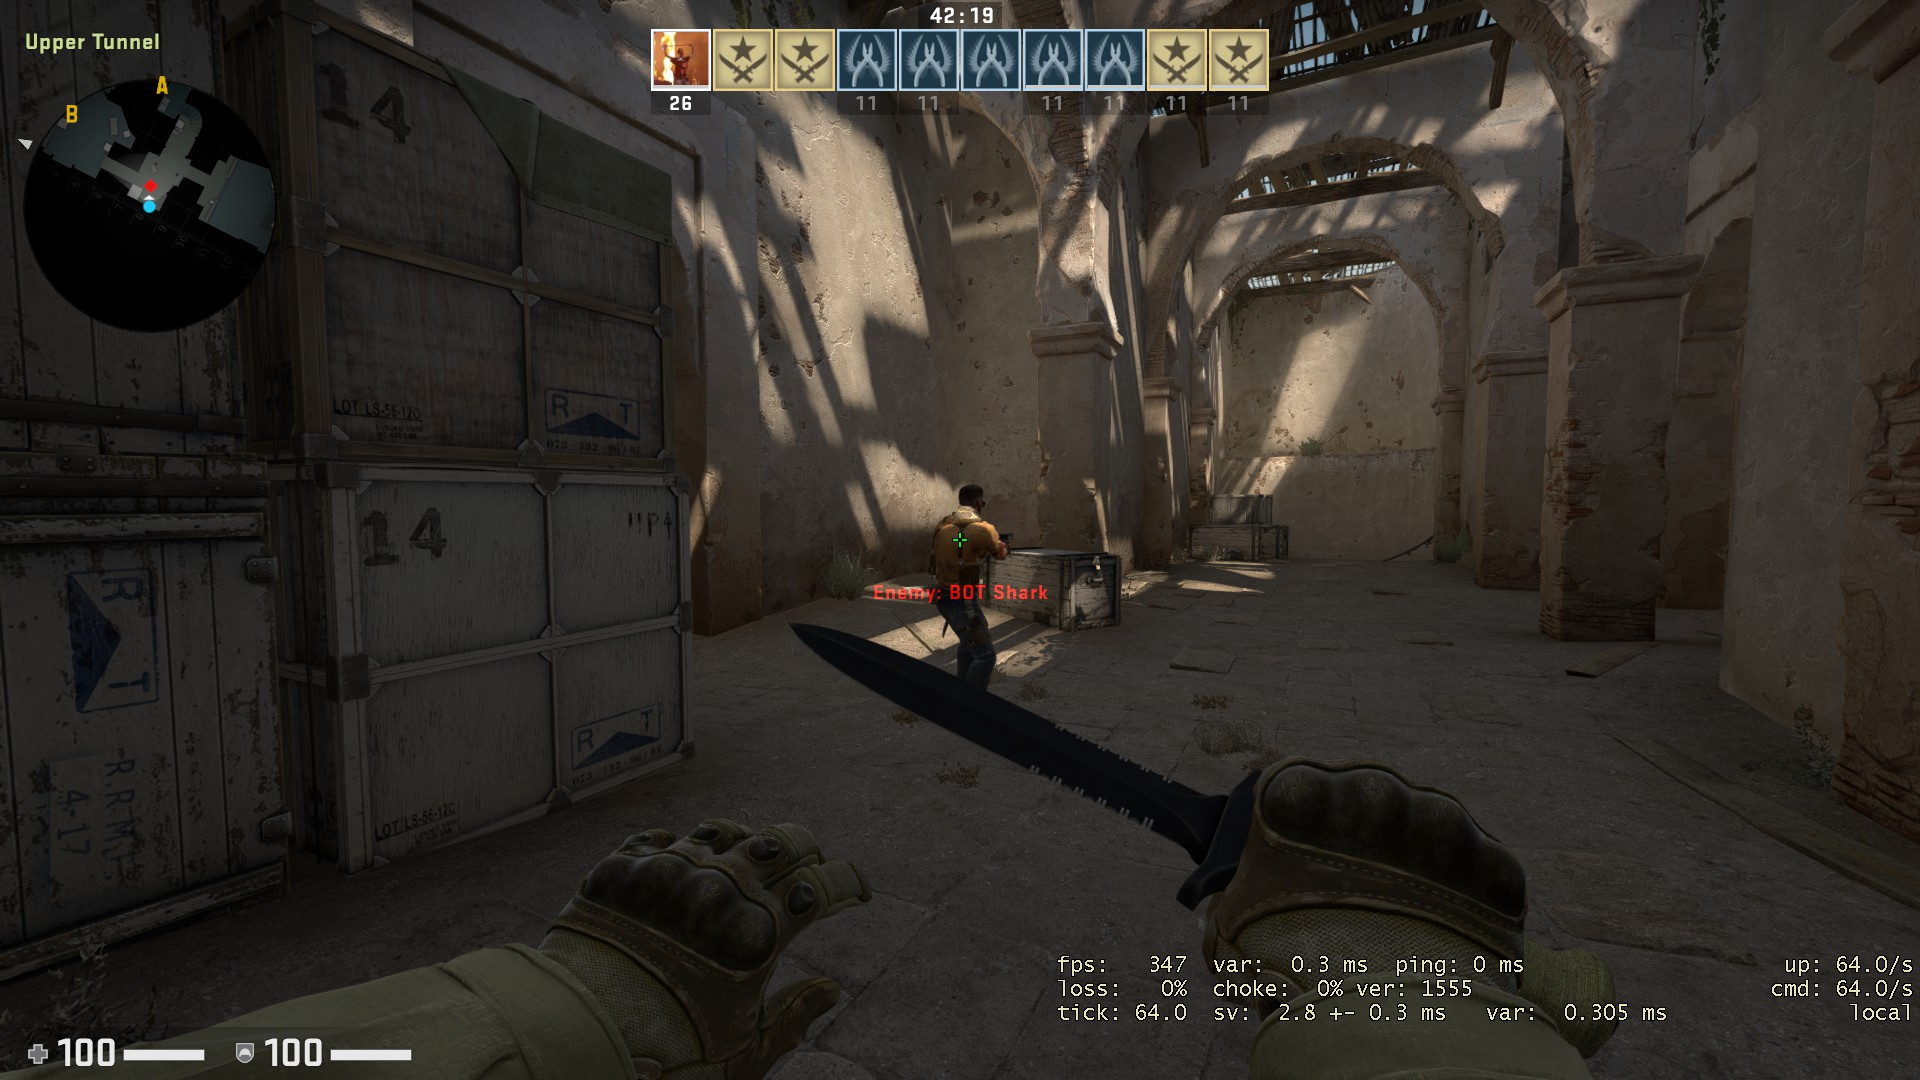player: (926, 480, 1018, 710)
